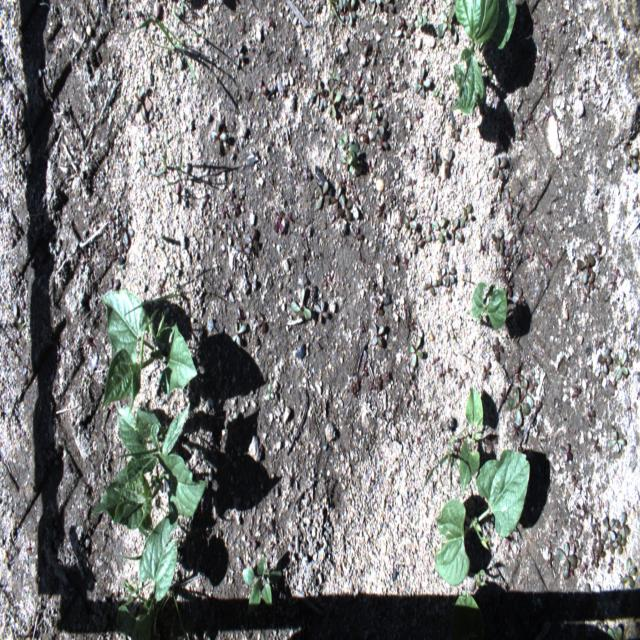crop: (92, 402, 208, 530), (434, 448, 530, 588), (101, 290, 197, 415), (116, 512, 179, 639), (451, 0, 517, 114), (459, 385, 483, 491), (471, 282, 508, 333), (451, 592, 486, 640), (473, 568, 487, 587)
weed: (124, 247, 182, 315), (150, 26, 200, 90), (136, 126, 184, 185), (426, 426, 470, 487), (242, 555, 282, 607), (119, 17, 173, 46), (506, 378, 532, 425), (554, 542, 578, 580), (412, 64, 432, 97), (407, 331, 423, 372), (338, 132, 358, 164), (291, 287, 311, 318), (445, 212, 464, 244), (320, 0, 344, 24), (580, 250, 596, 285), (211, 119, 227, 154), (439, 4, 455, 37), (400, 208, 419, 234), (595, 347, 612, 376), (338, 0, 356, 25), (426, 148, 442, 176), (492, 154, 508, 181), (327, 90, 341, 120), (615, 512, 630, 540), (230, 320, 246, 346), (336, 193, 352, 219), (312, 77, 325, 108), (614, 352, 628, 380), (622, 556, 634, 588), (607, 433, 627, 452), (490, 226, 504, 253), (372, 114, 386, 140), (432, 216, 445, 243), (437, 266, 454, 286), (624, 146, 638, 170), (314, 300, 329, 322), (316, 182, 328, 208), (502, 186, 514, 212), (557, 443, 574, 461), (245, 228, 258, 251), (602, 517, 615, 540), (236, 240, 252, 258), (369, 0, 393, 12), (424, 274, 437, 296), (460, 204, 472, 227), (593, 530, 605, 553), (233, 43, 244, 67), (372, 323, 384, 345), (421, 145, 433, 167), (367, 100, 378, 123), (569, 528, 578, 556), (608, 624, 623, 640), (431, 84, 443, 104), (480, 363, 492, 383), (416, 5, 426, 28), (492, 337, 502, 359), (372, 298, 384, 316), (255, 312, 266, 331), (586, 405, 596, 425), (350, 84, 360, 103), (542, 58, 551, 78), (275, 214, 284, 232), (374, 205, 386, 218), (572, 384, 582, 399), (258, 78, 267, 94), (351, 226, 362, 239), (229, 203, 241, 214), (303, 169, 311, 179), (267, 383, 271, 400), (18, 323, 26, 331)
